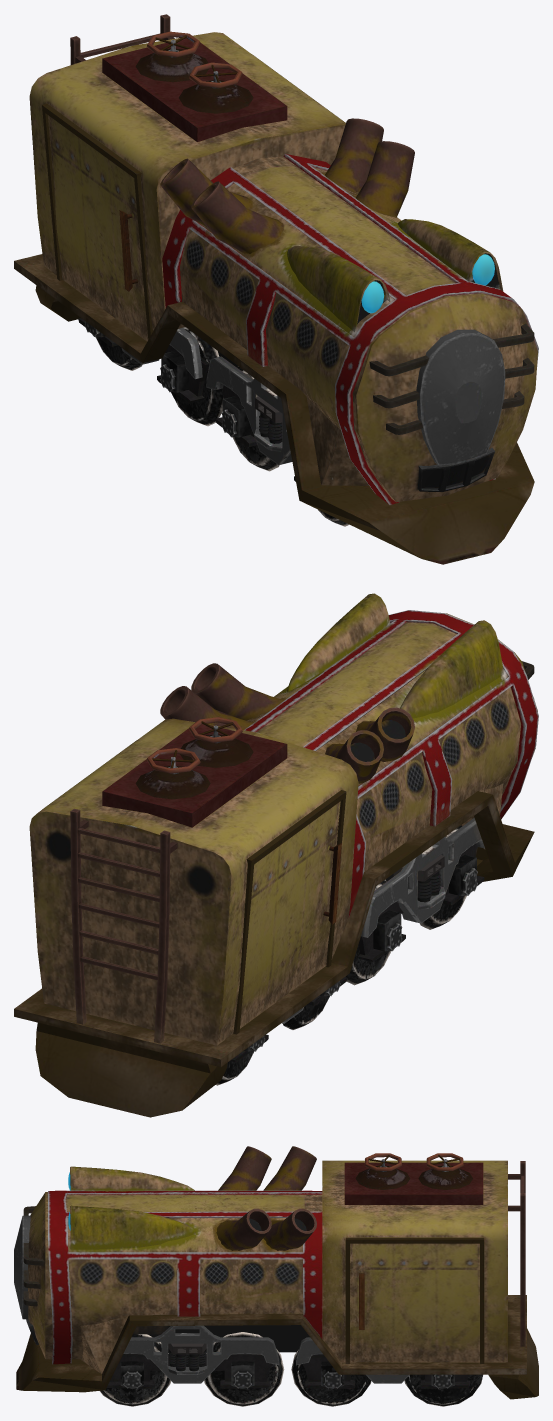
File: minitrain (1).glb
The picture shows the model from 3 angles, top to bottom: view 1: azimuth 30°, elevation 25°; view 2: azimuth 150°, elevation 25°; view 3: azimuth 270°, elevation 25°; orthographic projection. The views are drawn at different scales.
Parts seen in each view (by area): view 1: 20_low, 10_low, 12_low, 30_low, 23_low, 28_low, 27_low, 11_low, 5_low, 32_low, 17_low, 3_low (+9 smaller); view 2: 10_low, 12_low, 20_low, 30_low, 27_low, 23_low, 14_low, 11_low, 5_low, 32_low, 8_low, 7_low (+5 smaller); view 3: 10_low, 20_low, 12_low, 30_low, 27_low, 23_low, 5_low, 11_low, 7_low, 32_low, 2_low, 9_low (+12 smaller).
Boxes of the visible parts, <box> form: 20_low: <box>178,156,537,502</box>; 10_low: <box>29,32,345,341</box>; 12_low: <box>14,55,534,564</box>; 30_low: <box>162,154,538,504</box>; 23_low: <box>160,118,414,253</box>; 28_low: <box>416,329,505,465</box>; 27_low: <box>287,219,503,332</box>; 11_low: <box>102,38,287,141</box>; 5_low: <box>121,328,333,479</box>; 32_low: <box>135,48,253,113</box>; 17_low: <box>369,323,534,434</box>; 3_low: <box>171,327,223,426</box>; 10_low: <box>29,718,358,1045</box>; 12_low: <box>14,740,534,1117</box>; 20_low: <box>247,613,537,871</box>; 30_low: <box>244,610,538,917</box>; 27_low: <box>287,593,503,718</box>; 23_low: <box>160,663,414,783</box>; 14_low: <box>70,808,177,1043</box>; 11_low: <box>102,724,287,827</box>; 5_low: <box>282,818,484,1023</box>; 32_low: <box>135,734,253,799</box>; 8_low: <box>244,855,476,1051</box>; 7_low: <box>230,843,484,1062</box>; 10_low: <box>322,1160,507,1362</box>; 20_low: <box>28,1192,322,1359</box>; 12_low: <box>16,1237,538,1399</box>; 30_low: <box>48,1190,322,1364</box>; 27_low: <box>70,1166,196,1249</box>; 23_low: <box>216,1146,316,1250</box>; 5_low: <box>123,1325,409,1383</box>; 11_low: <box>344,1162,483,1204</box>; 7_low: <box>106,1353,469,1388</box>; 32_low: <box>355,1165,472,1189</box>; 2_low: <box>204,1332,284,1406</box>; 9_low: <box>147,1325,309,1352</box>.
Bounding box in the file's own units: 1.89 × 2.57 × 5.36.
Materials: 1 (1 with a texture image).
